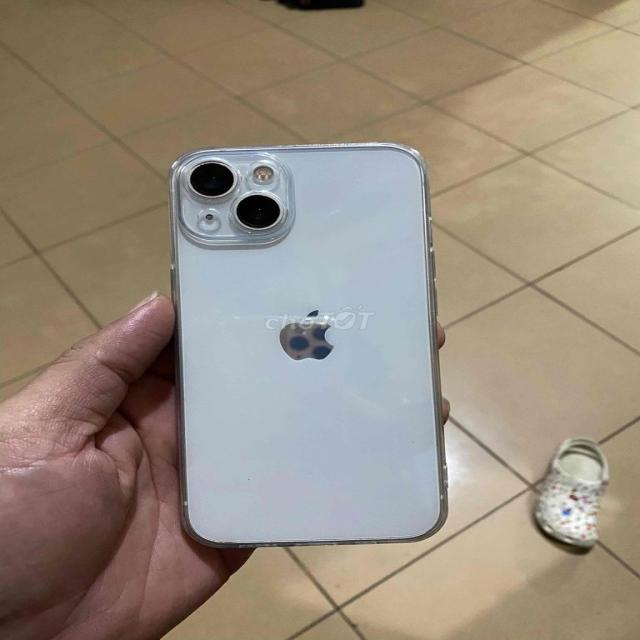gen_12_13: (168, 139, 455, 553)
